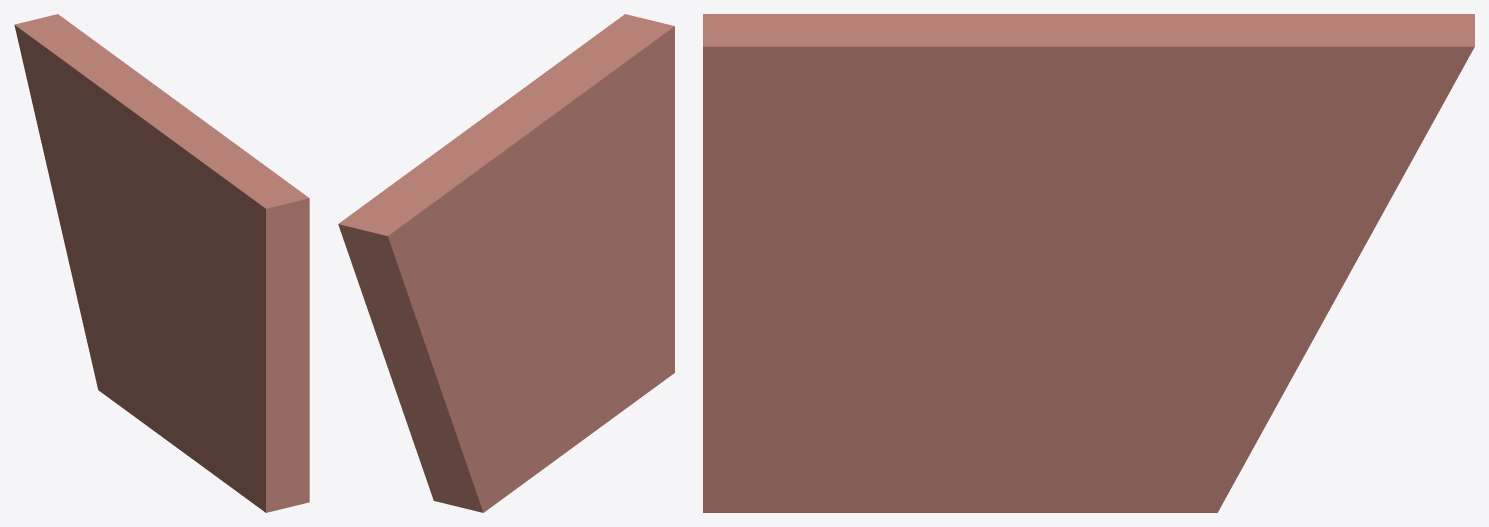
File: BasicSupport07Top_75x5.fbx
The picture shows the model from 3 angles, left to right: view 1: azimuth 30°, elevation 25°; view 2: azimuth 150°, elevation 25°; view 3: azimuth 270°, elevation 25°; orthographic projection. The views are drawn at different scales.
Parts seen in each view (by area): view 1: BasicSupport07.75x5Top.005; view 2: BasicSupport07.75x5Top.005; view 3: BasicSupport07.75x5Top.005.
Boxes of the visible parts, x1,y1,x2,y2 form: BasicSupport07.75x5Top.005: (14,14,309,512); BasicSupport07.75x5Top.005: (338,14,674,512); BasicSupport07.75x5Top.005: (703,14,1474,512).
Size of the model in its own units: 75 by 500 by 750.
